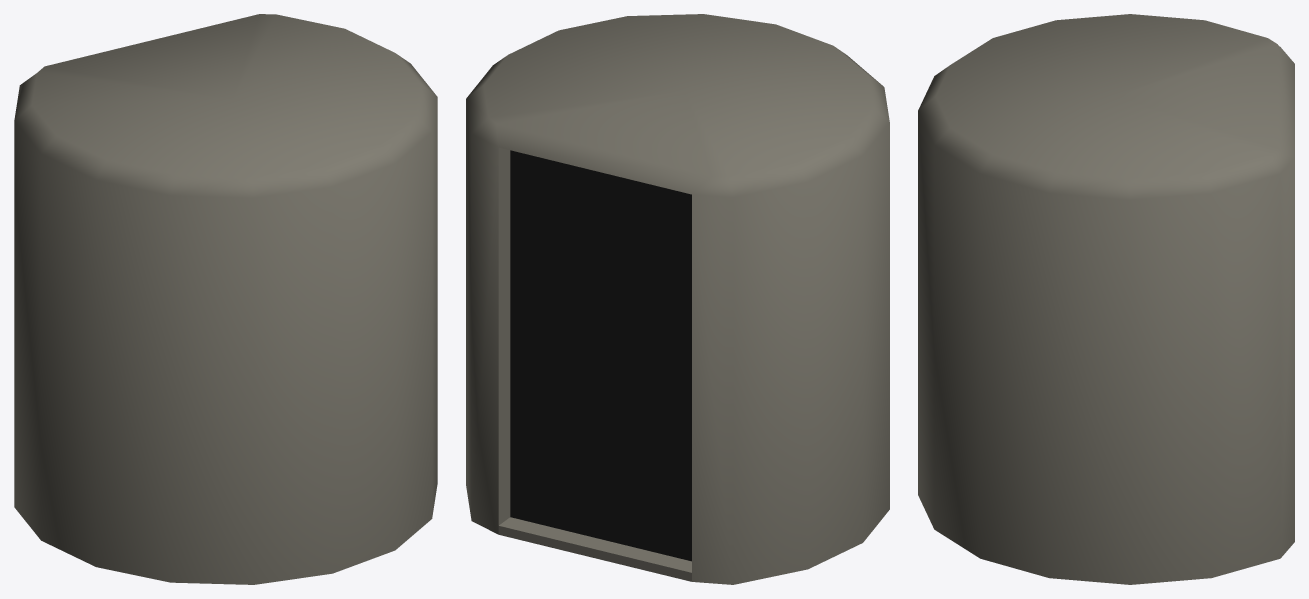
The model's file is spawnp.fbx.
3 renders of one model, left to right at view 1: azimuth 30°, elevation 25°; view 2: azimuth 150°, elevation 25°; view 3: azimuth 270°, elevation 25°, orthographic.
Parts seen in each view (by area): view 1: Cylinder; view 2: Cylinder; view 3: Cylinder.
Boxes of the visible parts, left/top/right/bottom form: Cylinder: left=14, top=14, right=437, bottom=584; Cylinder: left=466, top=14, right=889, bottom=584; Cylinder: left=918, top=14, right=1294, bottom=584.
Size of the model in its own units: 2 by 2.07 by 1.77.
